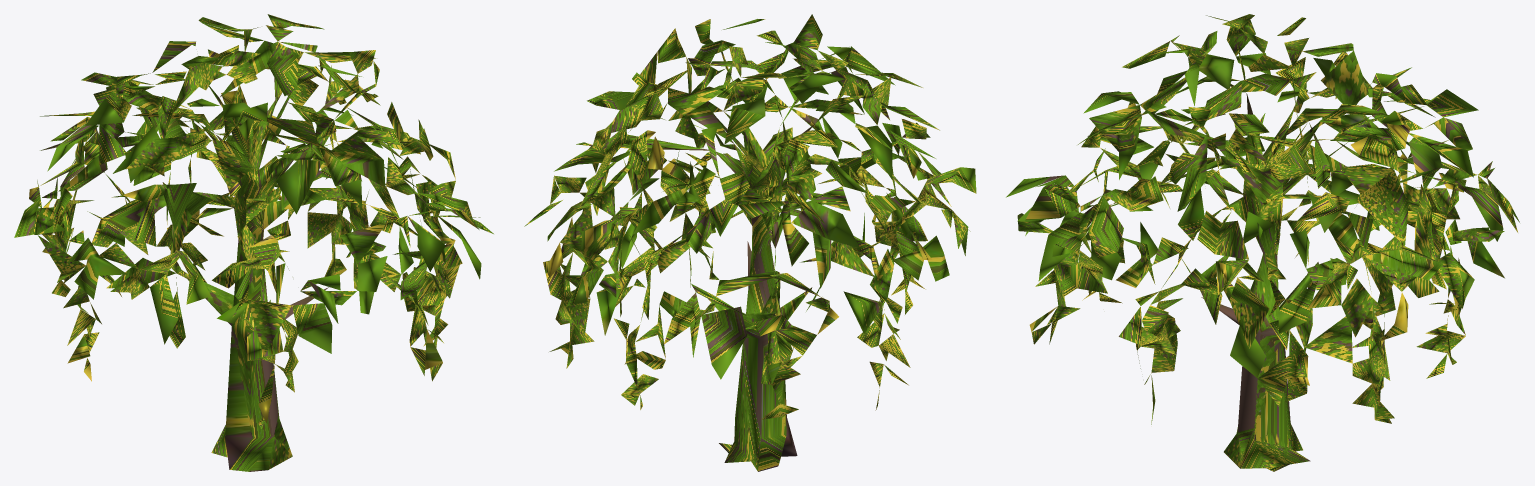
File: goldenshower-far.glb
The picture shows the model from 3 angles, left to right: view 1: azimuth 30°, elevation 25°; view 2: azimuth 150°, elevation 25°; view 3: azimuth 270°, elevation 25°; orthographic projection. The views are drawn at different scales.
Visible parts, largest first — view 1: tripo_node_51c227d1-0e9e-4a55-89a3-a381fd9cd03f; view 2: tripo_node_51c227d1-0e9e-4a55-89a3-a381fd9cd03f; view 3: tripo_node_51c227d1-0e9e-4a55-89a3-a381fd9cd03f.
Boxes of the visible parts, x1=… form: tripo_node_51c227d1-0e9e-4a55-89a3-a381fd9cd03f: x1=14, y1=14, x2=493, y2=471; tripo_node_51c227d1-0e9e-4a55-89a3-a381fd9cd03f: x1=524, y1=14, x2=976, y2=471; tripo_node_51c227d1-0e9e-4a55-89a3-a381fd9cd03f: x1=1006, y1=14, x2=1519, y2=471.
Bounding box in the file's own units: 0.8627 × 0.924 × 0.9969.
Materials: 1 (1 with a texture image).
